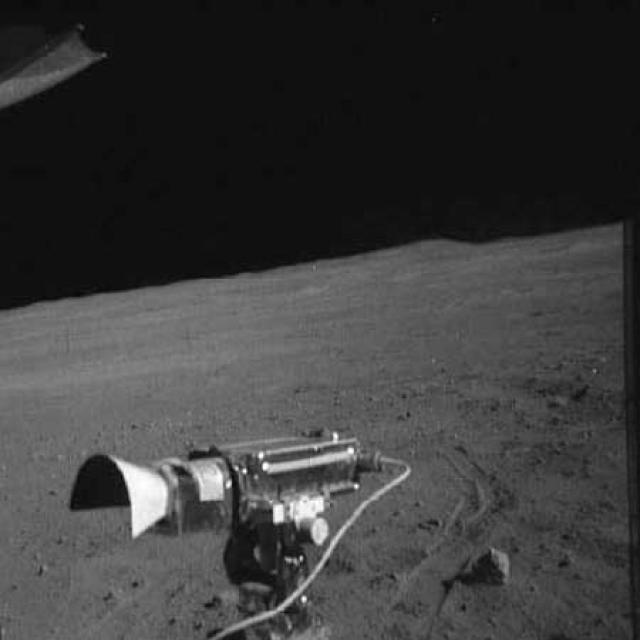rock: (475, 536, 518, 592), (200, 588, 240, 609), (554, 549, 582, 570), (102, 582, 124, 607), (544, 391, 570, 408), (132, 574, 154, 592), (30, 558, 50, 576)
